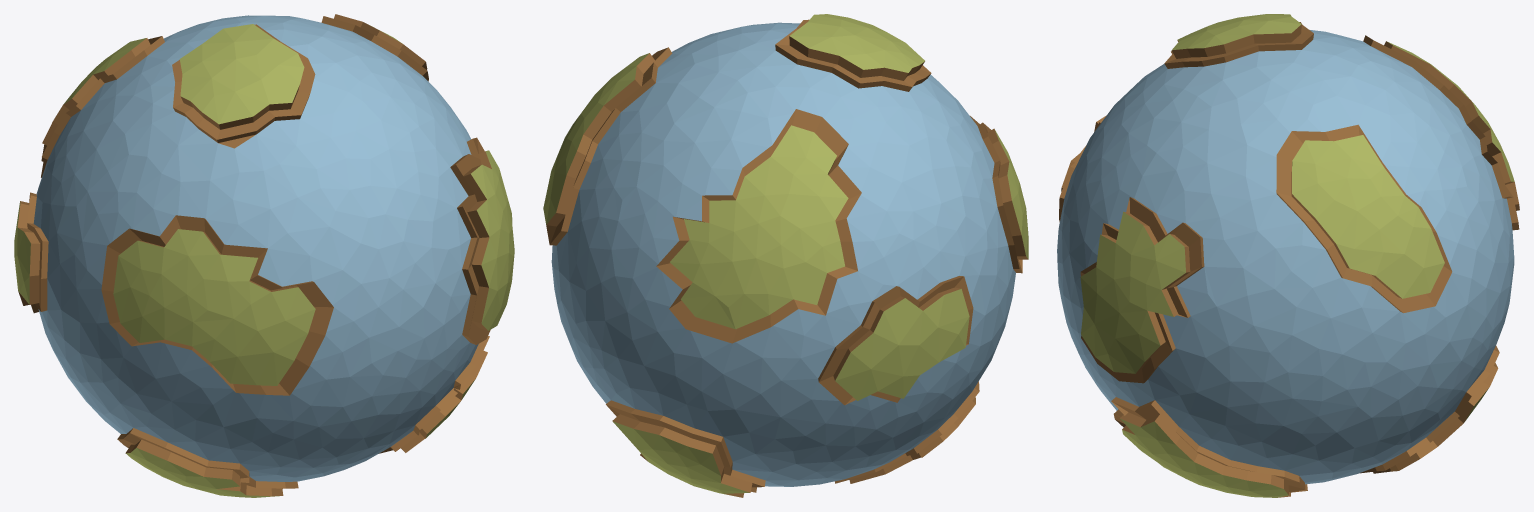
Rendered from PlanetIsland.fbx.
3 views of the same model, side by side, from view 1: azimuth 30°, elevation 25°; view 2: azimuth 150°, elevation 25°; view 3: azimuth 270°, elevation 25° (orthographic). The views are drawn at different scales.
Visible parts, largest first — view 1: Planet Island; view 2: Planet Island; view 3: Planet Island.
Boxes of the visible parts, x1,y1,x2,y2 form: Planet Island: (14,14,514,497); Planet Island: (543,14,1028,497); Planet Island: (1057,14,1519,497).
Size of the model in its own units: 215 by 222 by 214.
